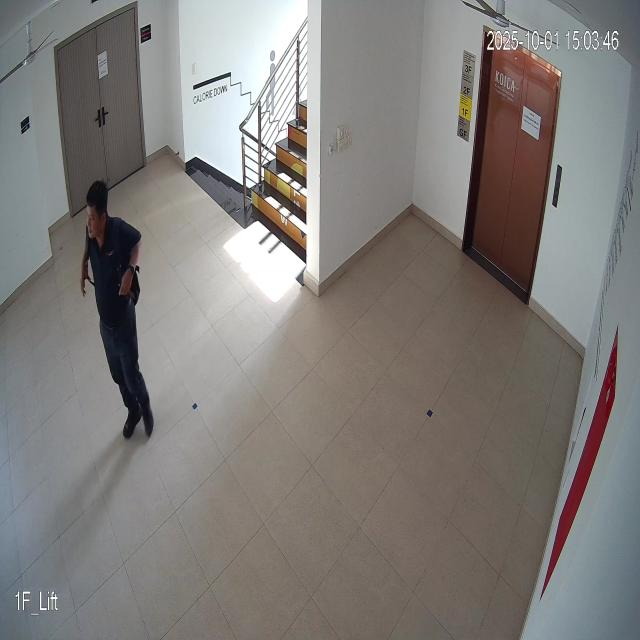face: (82, 175, 110, 245)
